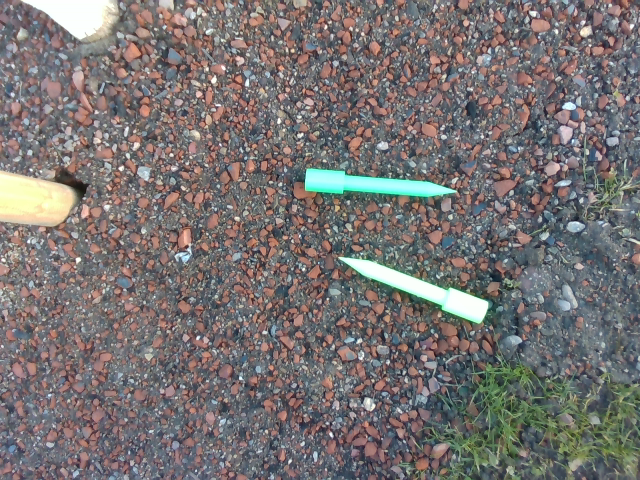Probe: (335, 248, 492, 330), (302, 162, 465, 202)
